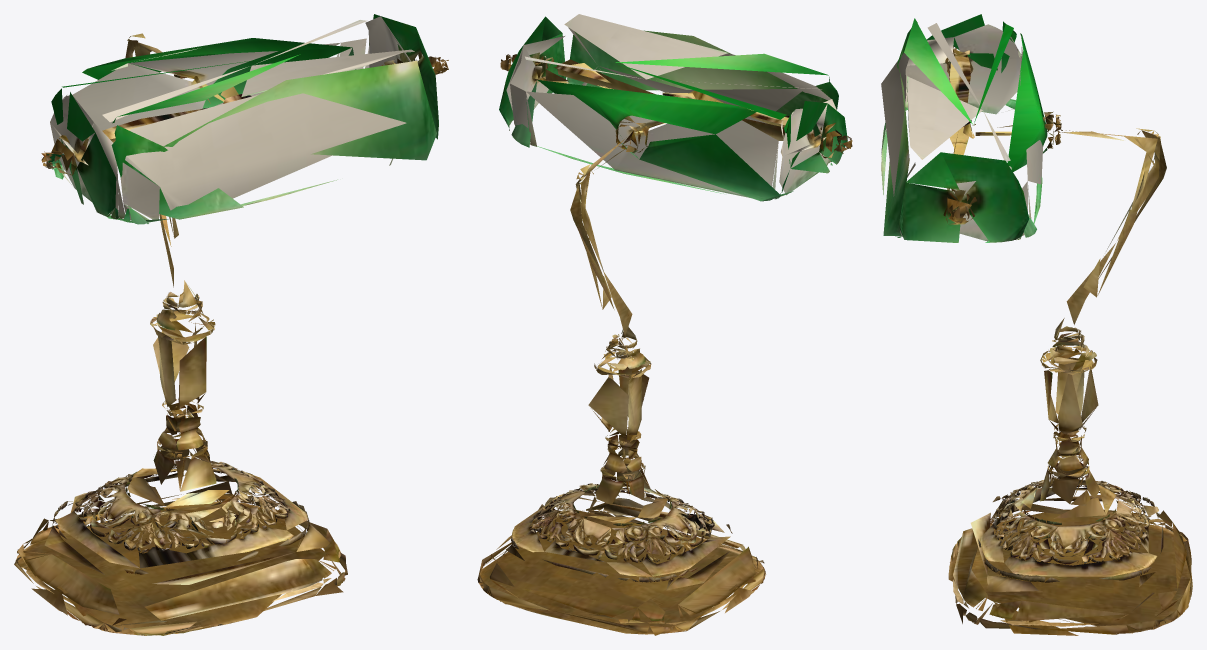
The model's file is desklamp.glb.
3 renders of one model, left to right at view 1: azimuth 30°, elevation 25°; view 2: azimuth 150°, elevation 25°; view 3: azimuth 270°, elevation 25°, orthographic. The views are drawn at different scales.
Visible parts, largest first — view 1: desklamp; view 2: desklamp; view 3: desklamp.
Part boxes in pixels (left/top/right/bottom): desklamp: left=14, top=14, right=448, bottom=635; desklamp: left=477, top=14, right=852, bottom=635; desklamp: left=881, top=14, right=1192, bottom=635.
Bounding box in the file's own units: 0.753 × 1 × 0.5673.
1 material, 1 textured.
